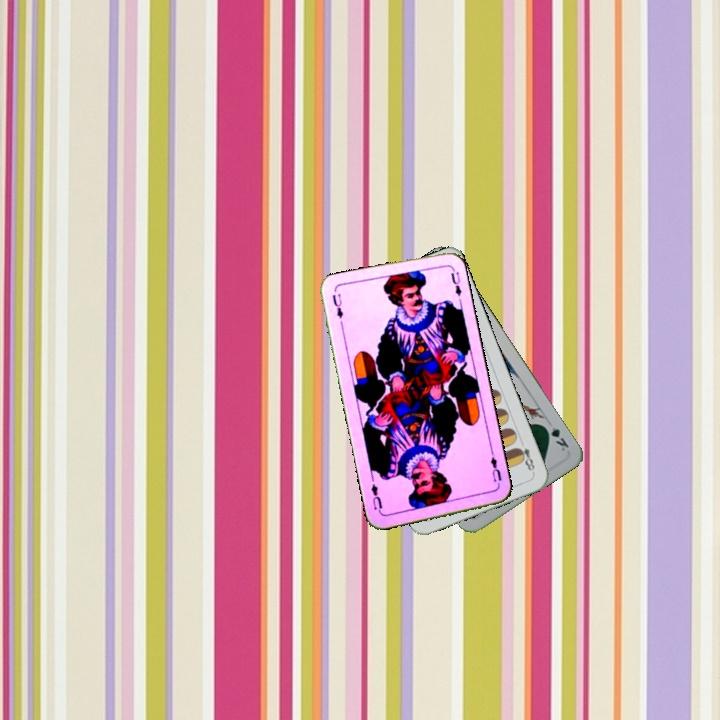E8: (513, 437, 537, 476)
EU: (486, 448, 504, 484), (328, 289, 346, 321)
GK: (539, 421, 572, 454)
